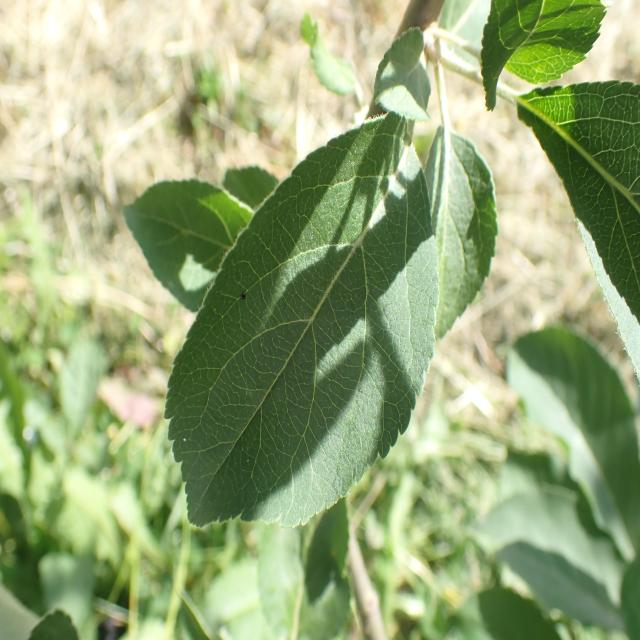healthy: (162, 31, 436, 528), (517, 80, 640, 384), (123, 170, 279, 314), (479, 0, 606, 112)
